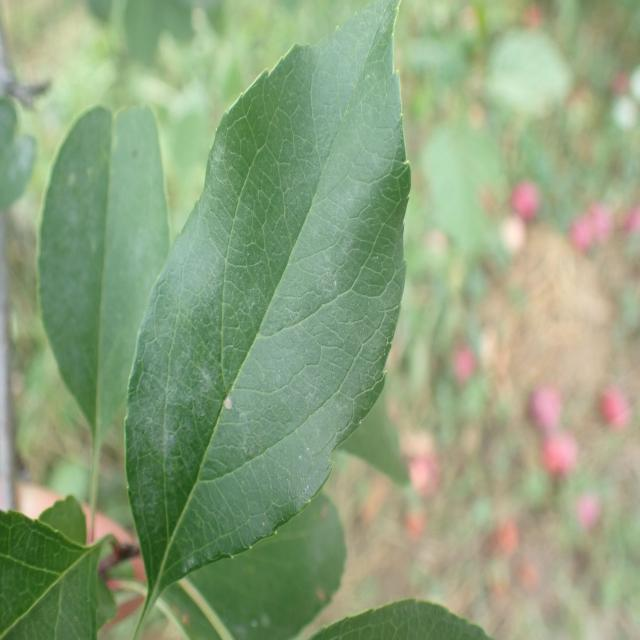Powdery_mildew: (132, 67, 378, 578), (31, 102, 164, 452)
